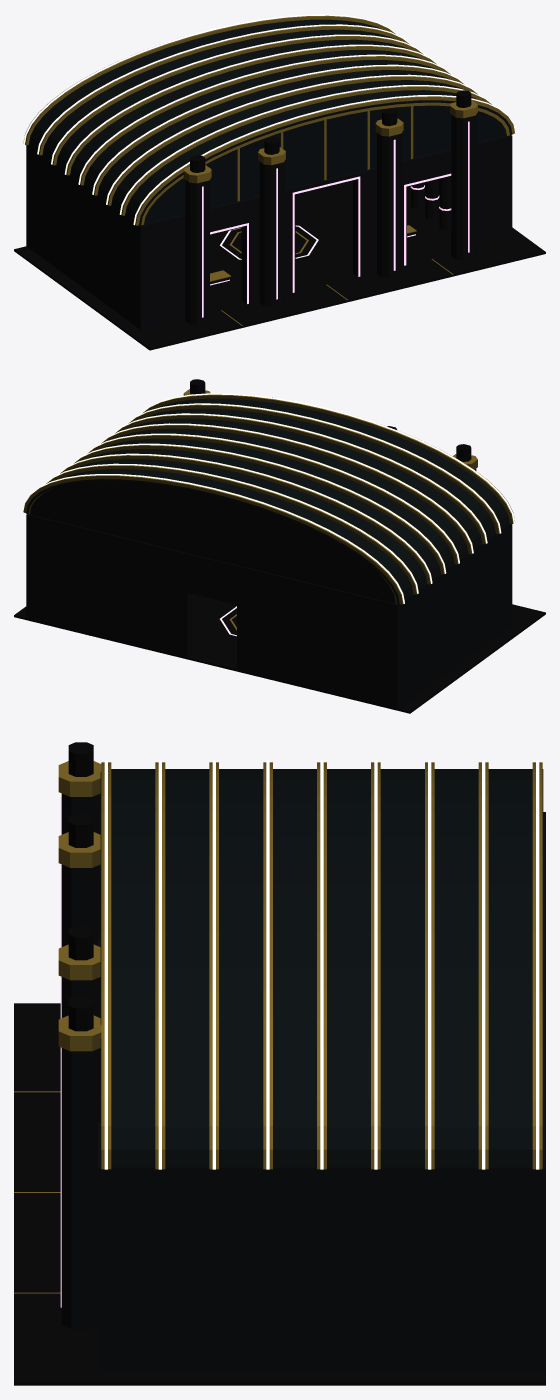
The model's file is shaddai_colosseum_lobby_v01.glb.
3 views of the same model, one above another, from view 1: azimuth 30°, elevation 25°; view 2: azimuth 150°, elevation 25°; view 3: azimuth 270°, elevation 25° (orthographic). The views are drawn at different scales.
Visible parts, largest first — view 1: lobby_shell, lobby_vault, lobby_props; view 2: lobby_vault, lobby_shell; view 3: lobby_vault, lobby_shell.
Part boxes in pixels (<box>): lobby_shell: <box>14,90,545,350</box>; lobby_vault: <box>23,14,514,225</box>; lobby_props: <box>210,176,451,288</box>; lobby_vault: <box>23,393,515,604</box>; lobby_shell: <box>14,379,545,713</box>; lobby_vault: <box>100,760,543,1169</box>; lobby_shell: <box>14,742,545,1385</box>.
Bounding box in the file's own units: 64 × 27.08 × 38.
